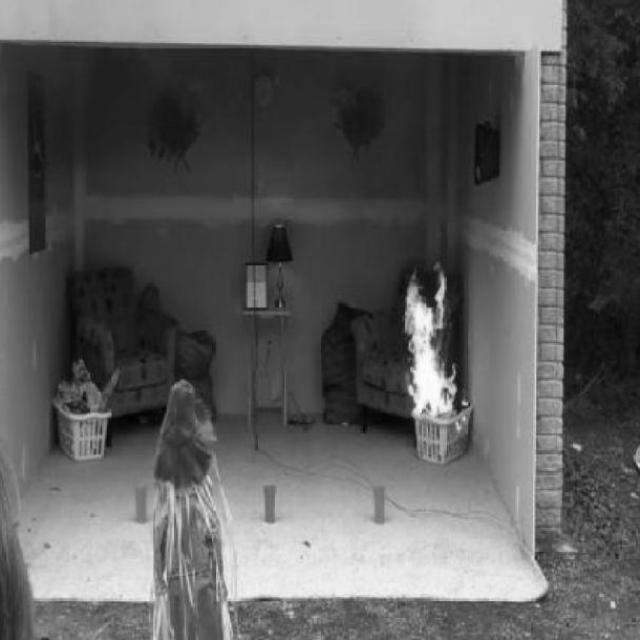smoke: (401, 278, 466, 424)
